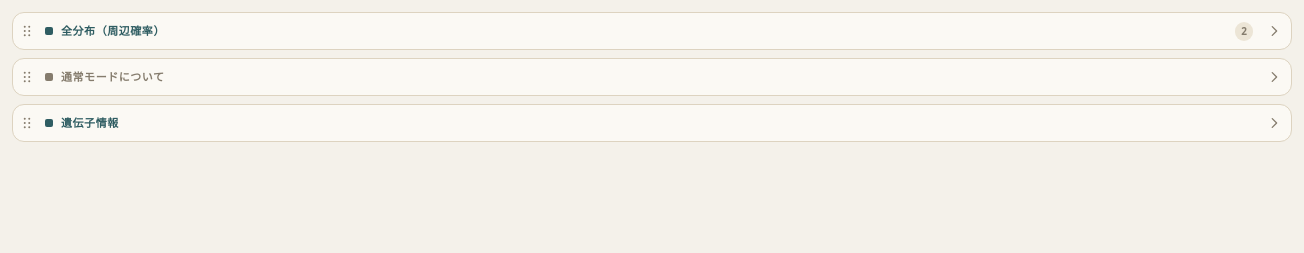
Test: ResultView full distribution › 確率メーターのバー幅は絶対確率 (列内最大値で正規化しない) でトラック上に描く
Click the button "全分布（周辺確率） 2". click: click(113, 30)
box: x1=45 y1=14 x2=1291 y2=48
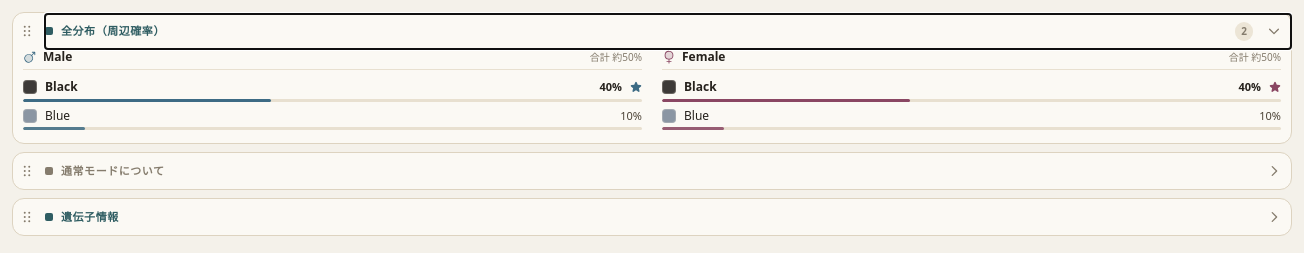
Expected: the 1st element with test id "dist-meter-track" is shown, x1=23 y1=98 x2=642 y2=102
